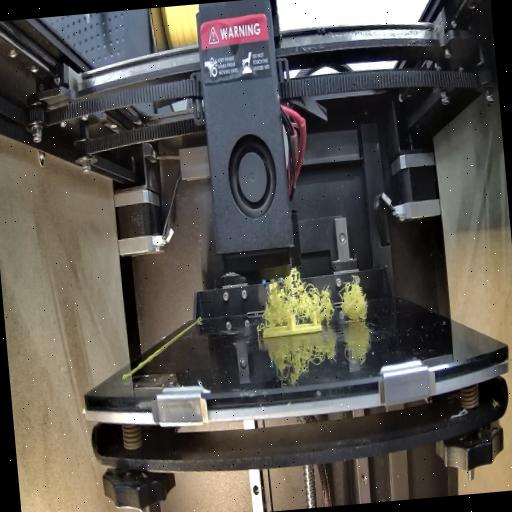spaghetti: (254, 262, 370, 328)
